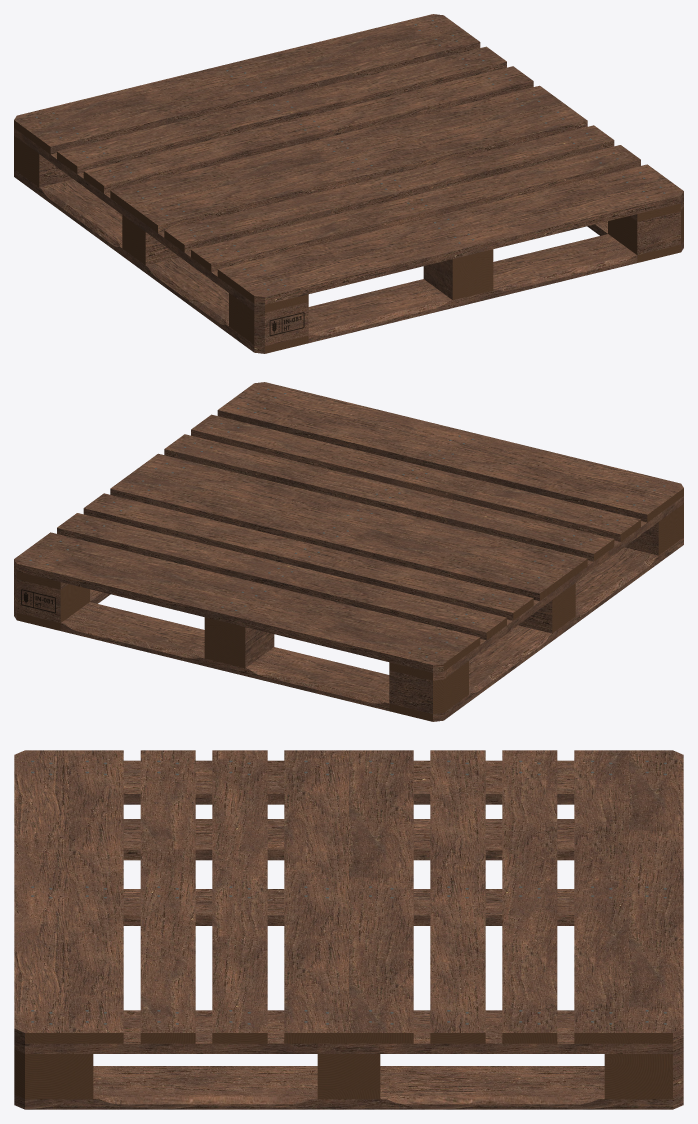
The model's file is hw05-hardwood-pallet-1275x1275.glb.
3 renders of one model, top to bottom at view 1: azimuth 30°, elevation 25°; view 2: azimuth 150°, elevation 25°; view 3: azimuth 270°, elevation 25°, orthographic. The views are drawn at different scales.
Visible parts, largest first — view 1: hw05-hardwood-pallet-1275x1275; view 2: hw05-hardwood-pallet-1275x1275; view 3: hw05-hardwood-pallet-1275x1275.
Part boxes in pixels (left/top/right/bottom): hw05-hardwood-pallet-1275x1275: left=14, top=14, right=683, bottom=353; hw05-hardwood-pallet-1275x1275: left=14, top=382, right=683, bottom=721; hw05-hardwood-pallet-1275x1275: left=14, top=750, right=683, bottom=1109.
Size of the model in its own units: 1.28 by 0.162 by 1.28.
4 materials, 3 textured.
